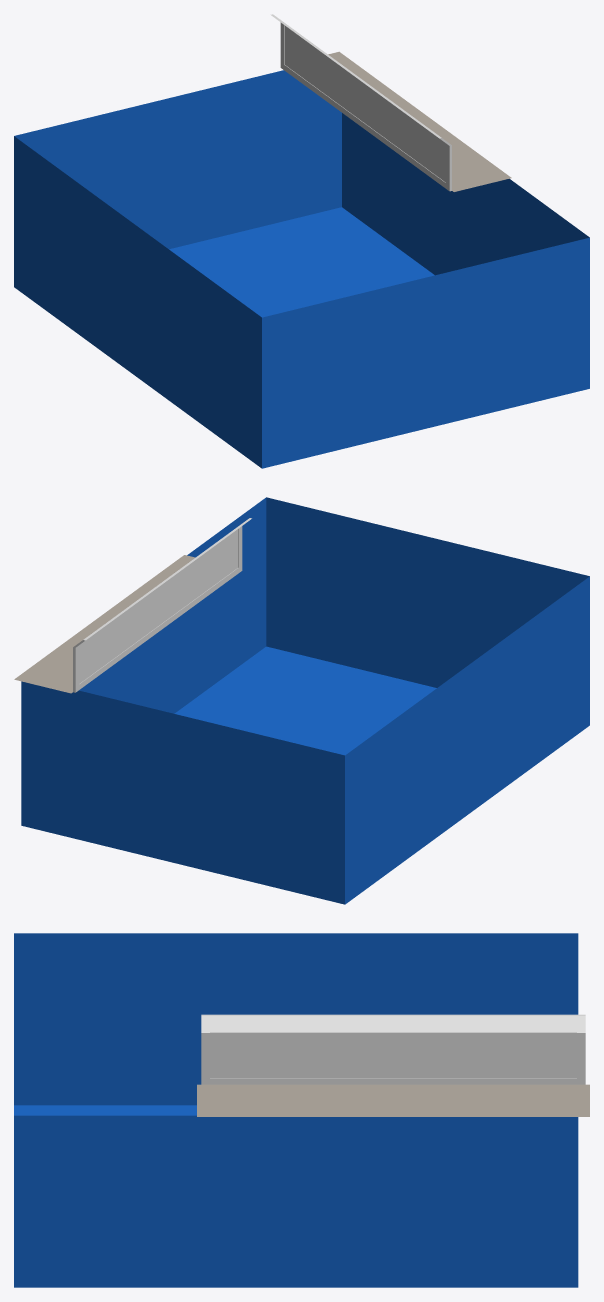
File: Shooting_F.fbx
The picture shows the model from 3 angles, top to bottom: view 1: azimuth 30°, elevation 25°; view 2: azimuth 150°, elevation 25°; view 3: azimuth 270°, elevation 25°; orthographic projection. The views are drawn at different scales.
Parts seen in each view (by area): view 1: Genre.003, Cube.425, Genre.002, Cube.423; view 2: Genre.003, Cube.425, Genre.002, Cube.423; view 3: Genre.003, Cube.425, Genre.002, Cube.423.
Part boxes in pixels (x1,y1,x2,y2): Genre.003: (14, 70, 589, 468); Cube.425: (285, 26, 445, 181); Genre.002: (328, 51, 511, 191); Cube.423: (270, 14, 451, 191); Genre.003: (21, 497, 589, 904); Cube.425: (79, 529, 237, 683); Genre.002: (14, 555, 195, 693); Cube.423: (73, 518, 251, 692); Genre.003: (14, 933, 578, 1287); Cube.425: (210, 1022, 576, 1077); Genre.002: (197, 1084, 589, 1116); Cube.423: (201, 1014, 585, 1084).
Bounding box in the file's own units: 1559 × 932 × 2069.
